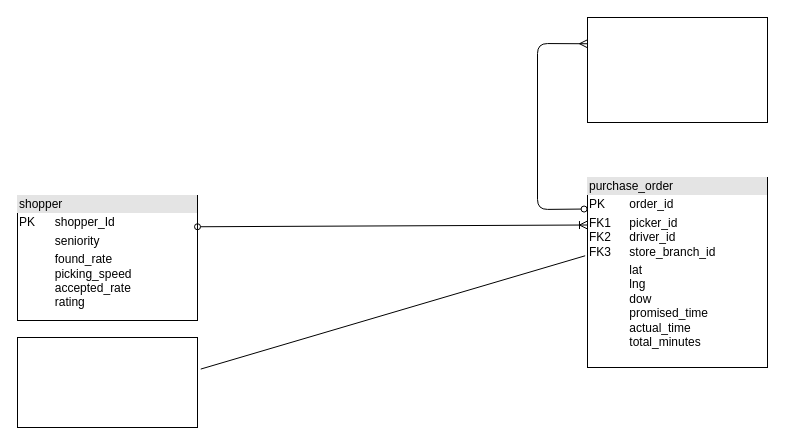
Image size: 785x445. Some labels were removed from this diagram. Each missing label, with the box of its shape:
product_order PK order_id FK1 product_id quantity quantity_found buy_unit: (586, 16, 768, 122)
store PK store_branch_id store lat lng: (16, 336, 198, 428)
